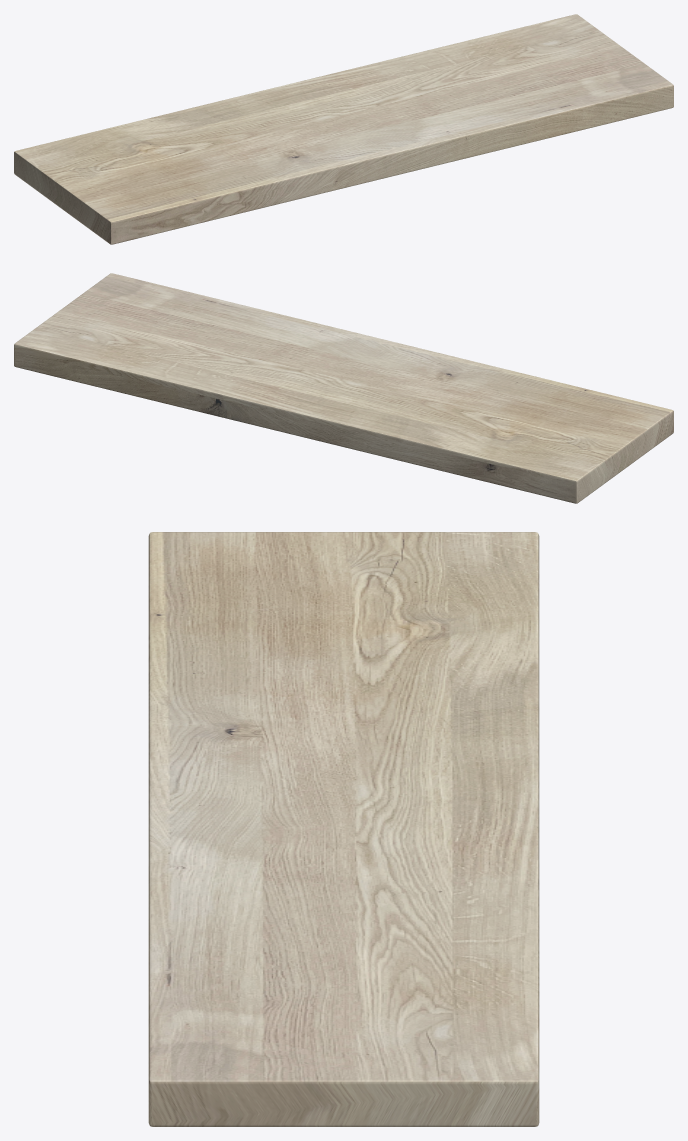
File: Rectangle_Straight_ext.glb
3 renders of one model, top to bottom at view 1: azimuth 30°, elevation 25°; view 2: azimuth 150°, elevation 25°; view 3: azimuth 270°, elevation 25°, orthographic. The views are drawn at different scales.
Parts seen in each view (by area): view 1: Extention_Straight; view 2: Extention_Straight; view 3: Extention_Straight.
Part boxes in pixels (x1,y1,x2,y2): Extention_Straight: (14, 14, 673, 244); Extention_Straight: (14, 273, 673, 503); Extention_Straight: (148, 532, 539, 1126).
Size of the model in its own units: 1 by 0.04 by 0.3.
1 material, 1 textured.
